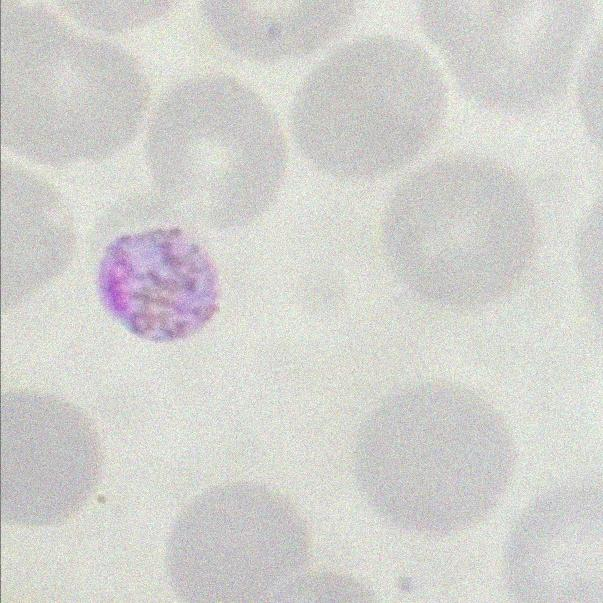Infected: (88, 204, 222, 347)
Uninfected: (348, 385, 514, 534), (2, 0, 144, 158), (387, 159, 532, 311), (291, 32, 443, 174), (411, 0, 585, 120), (147, 81, 279, 229), (168, 479, 309, 603), (0, 387, 99, 528)
